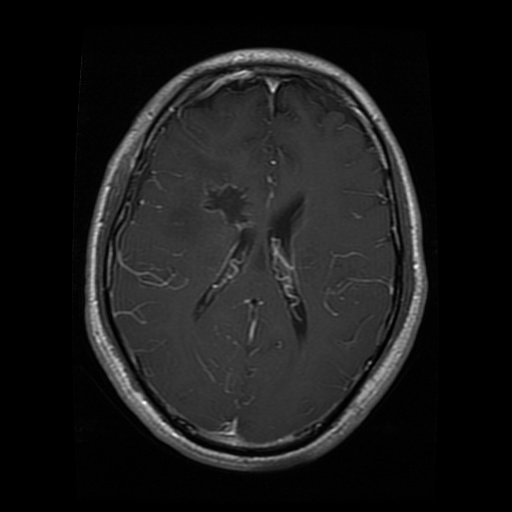glioma: (150, 152, 252, 247)
